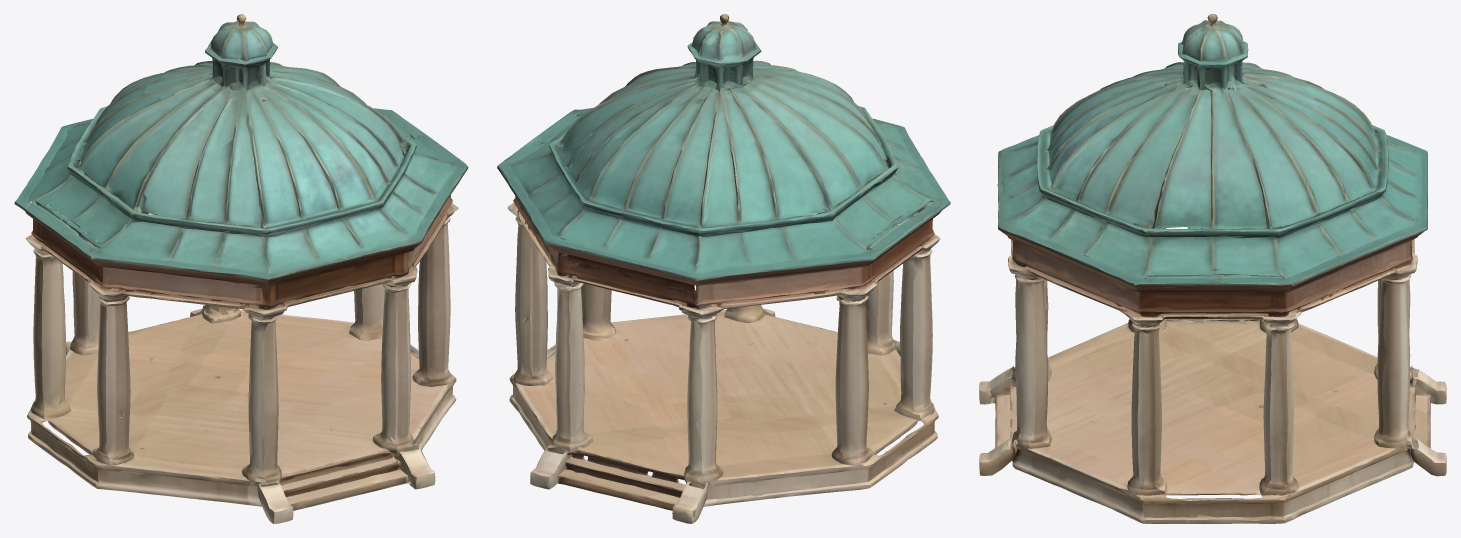
File: unified--bandstand.glb
3 renders of one model, left to right at view 1: azimuth 30°, elevation 25°; view 2: azimuth 150°, elevation 25°; view 3: azimuth 270°, elevation 25°, orthographic. The views are drawn at different scales.
Parts seen in each view (by area): view 1: bandstand-0; view 2: bandstand-0; view 3: bandstand-0.
Part boxes in pixels (x1=…): bandstand-0: x1=14, y1=14, x2=468, y2=523; bandstand-0: x1=497, y1=14, x2=950, y2=523; bandstand-0: x1=979, y1=14, x2=1446, y2=523.
Bounding box in the file's own units: 4.5 × 4.65 × 4.67.
1 material, 1 textured.
